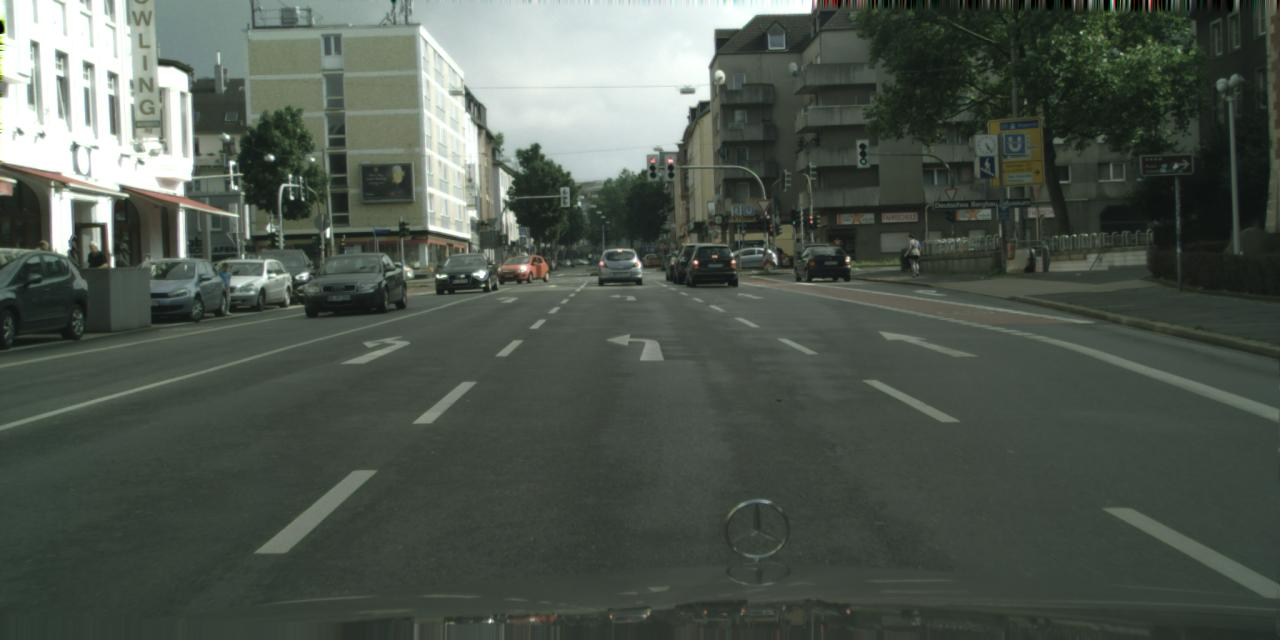ped: (23, 240, 52, 310), (82, 240, 109, 305), (213, 262, 234, 314), (140, 253, 158, 299), (904, 234, 921, 276), (521, 249, 528, 269)
